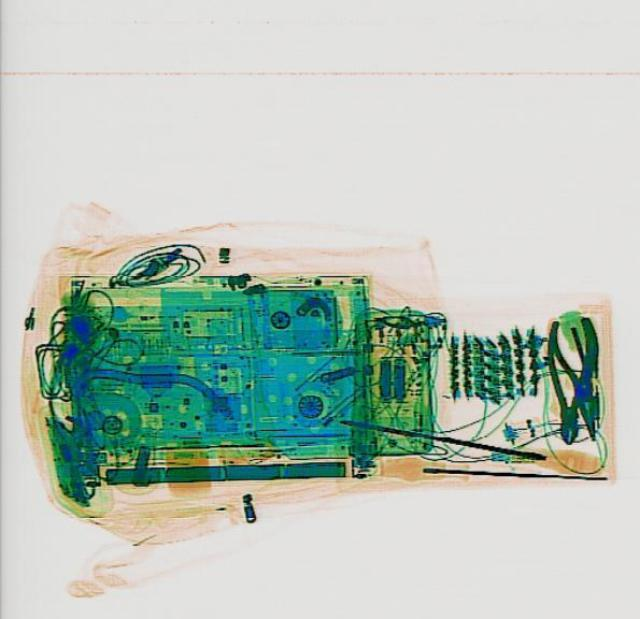Pliers: (548, 313, 618, 442), (543, 314, 597, 442)
